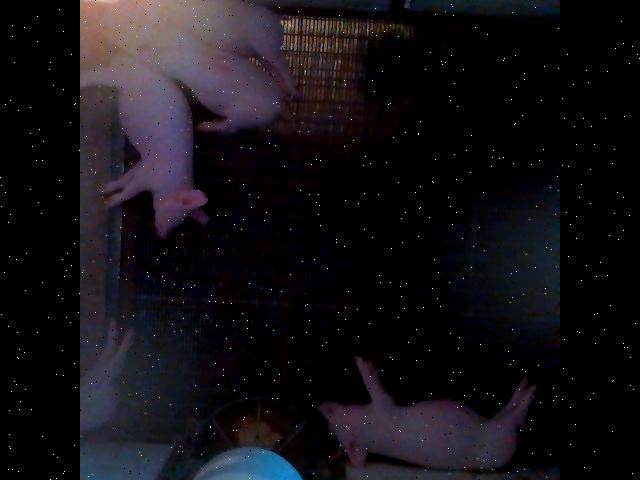pig-4: (103, 15, 284, 130)
